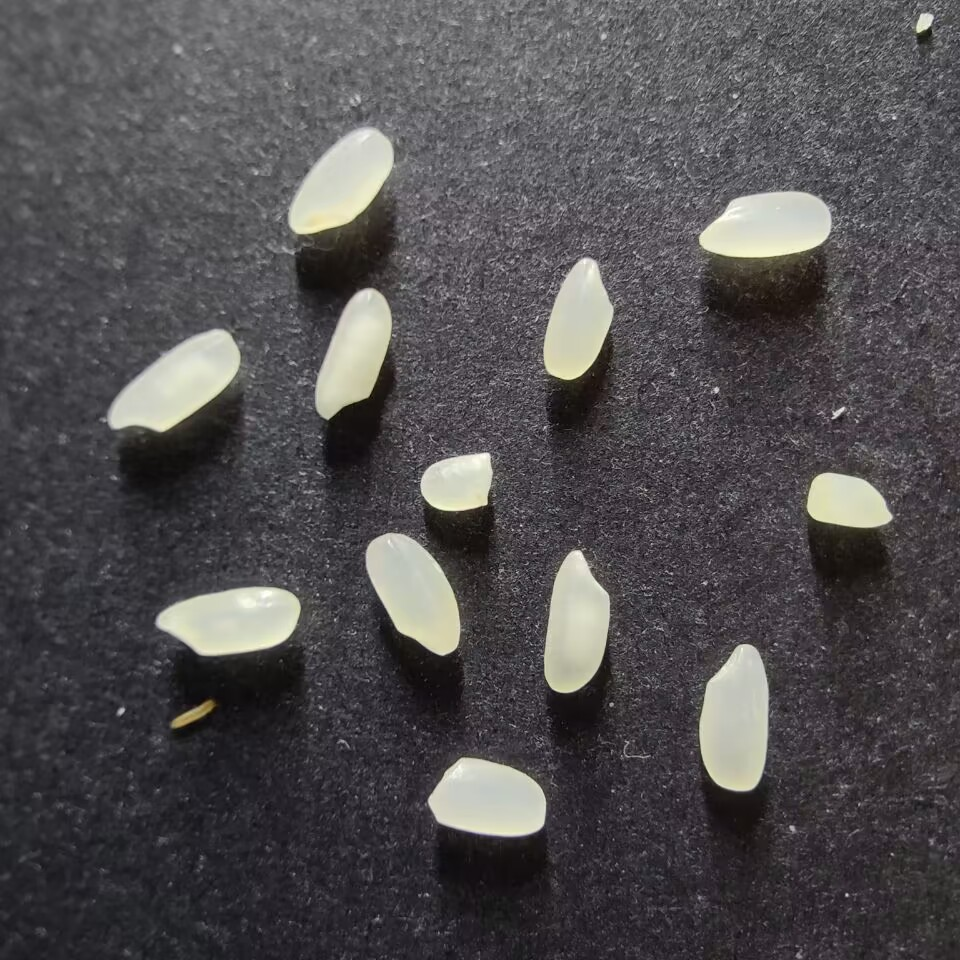broken: (805, 470, 895, 530), (418, 450, 495, 512)
others: (169, 697, 218, 732)
rice: (106, 326, 242, 434), (363, 531, 461, 657), (287, 125, 395, 238), (312, 286, 395, 424), (696, 642, 771, 792), (153, 584, 302, 657), (541, 549, 612, 695), (427, 753, 548, 837), (541, 255, 617, 382), (697, 189, 833, 259)
